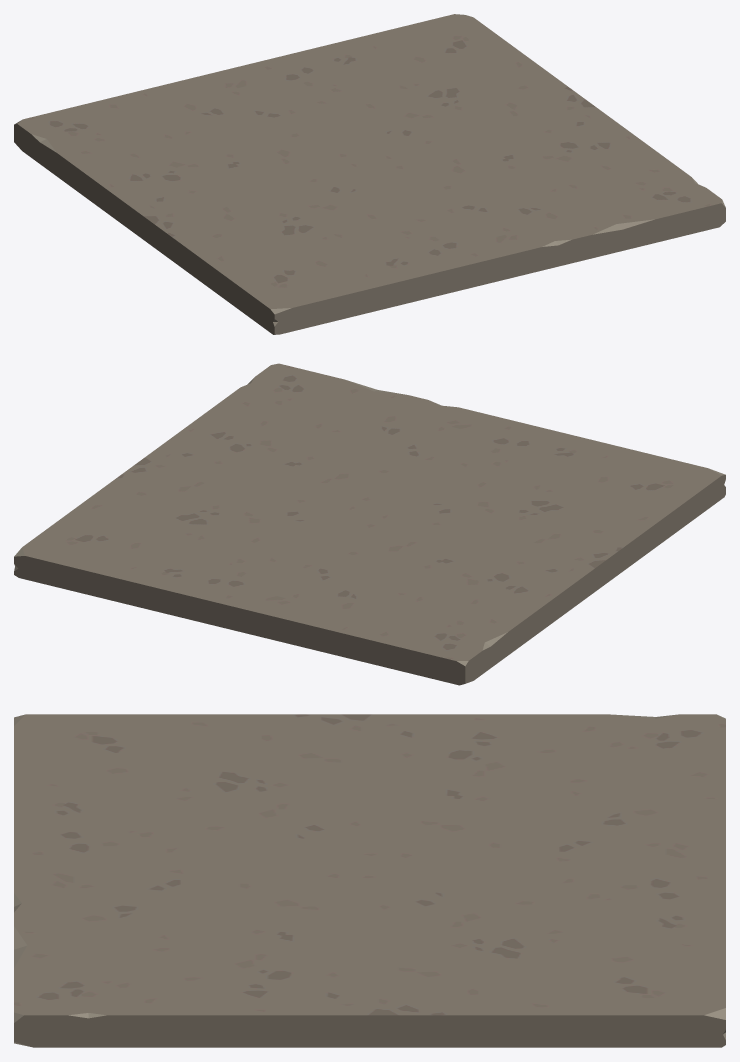
Rendered from SM_Bld_Concrete_Floor_03.obj.
The picture shows the model from 3 angles, top to bottom: view 1: azimuth 30°, elevation 25°; view 2: azimuth 150°, elevation 25°; view 3: azimuth 270°, elevation 25°; orthographic projection. The views are drawn at different scales.
Parts seen in each view (by area): view 1: SM_Bld_Concrete_Floor_03_0; view 2: SM_Bld_Concrete_Floor_03_0; view 3: SM_Bld_Concrete_Floor_03_0.
Boxes of the visible parts, bbox=[...] form: SM_Bld_Concrete_Floor_03_0: bbox=[14, 14, 725, 334]; SM_Bld_Concrete_Floor_03_0: bbox=[14, 363, 725, 685]; SM_Bld_Concrete_Floor_03_0: bbox=[14, 714, 725, 1047].
Size of the model in its own units: 10 by 0.5 by 10.
1 material, 1 textured.
